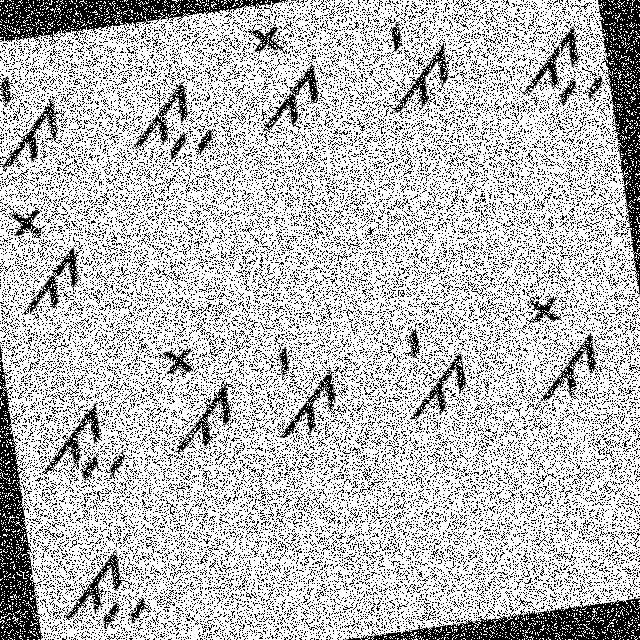kah: (112, 66, 228, 172), (46, 532, 159, 639), (499, 12, 608, 120), (26, 396, 131, 490)
ke: (358, 4, 458, 118), (258, 325, 348, 445), (390, 316, 483, 432), (0, 64, 71, 184)
ko: (505, 276, 621, 408), (230, 12, 330, 142), (0, 193, 95, 323), (150, 334, 244, 463)
